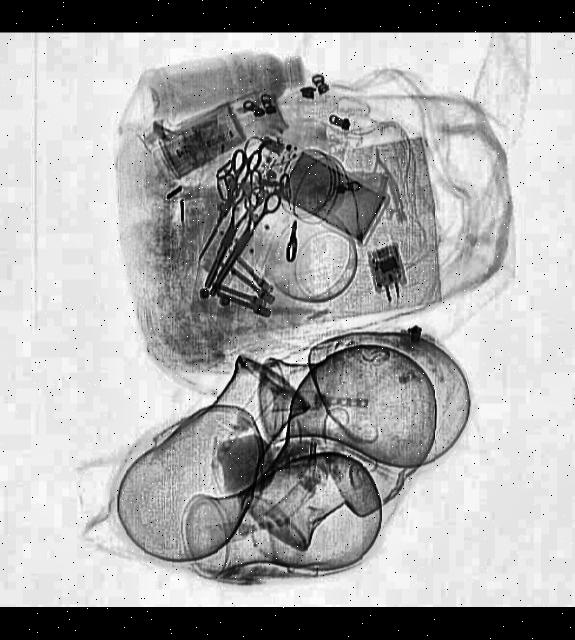Scissors: (201, 180, 280, 304), (188, 144, 259, 264)
